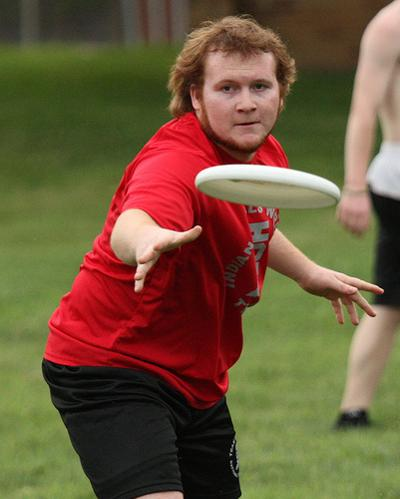person: (41, 17, 385, 499)
